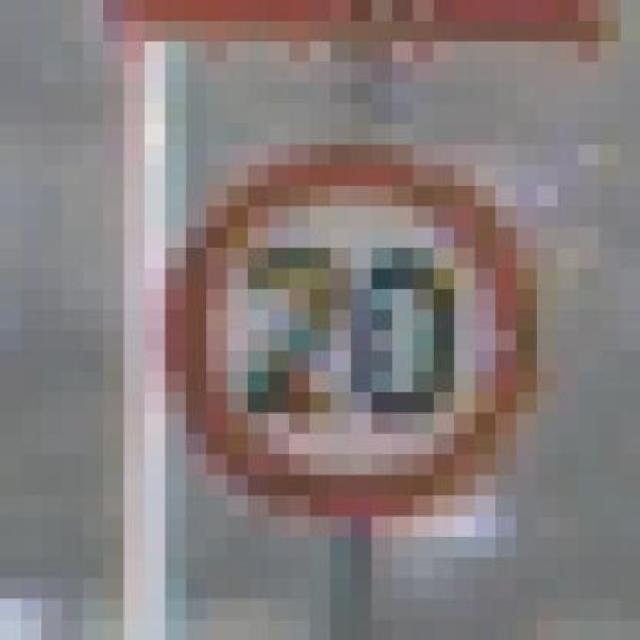forb_speed_over_20: (176, 155, 536, 514)
